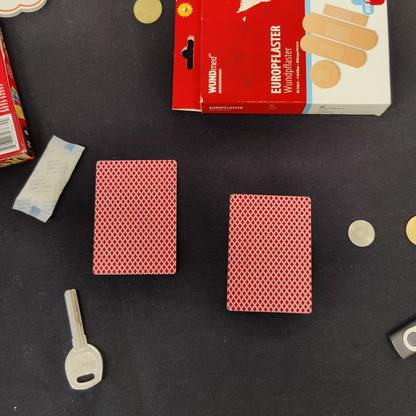card: (83, 152, 186, 283), (216, 188, 318, 319)
